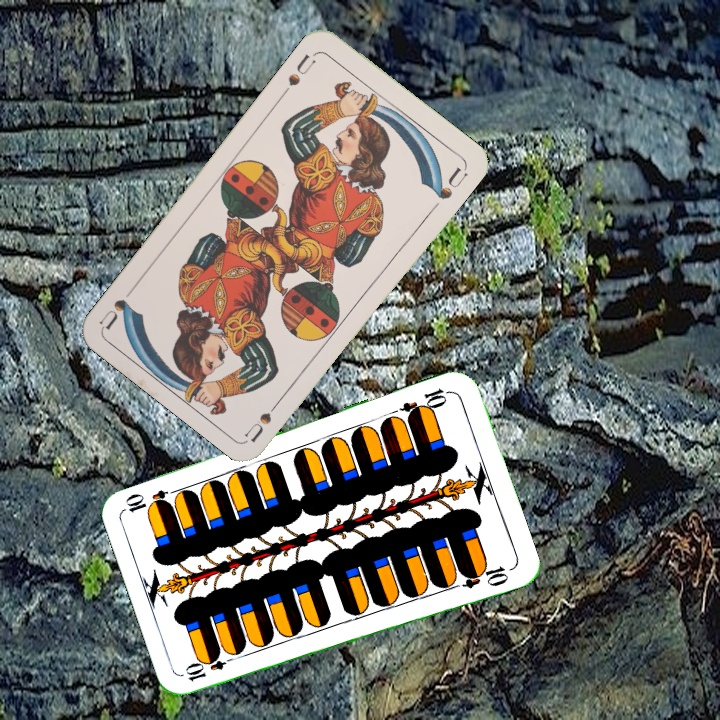E10: (397, 383, 454, 421), (181, 650, 239, 684)
SU: (241, 391, 287, 444), (278, 49, 318, 99)
